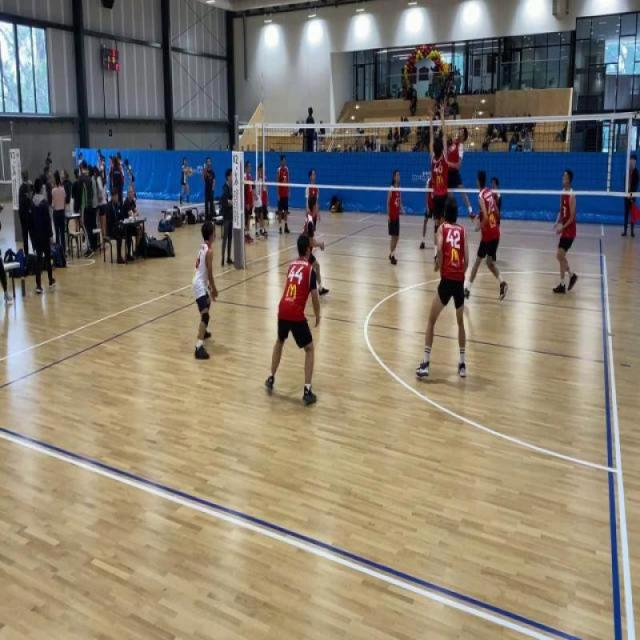volleyball: (45, 257, 54, 272), (442, 61, 450, 75), (163, 231, 170, 238), (147, 233, 154, 240), (188, 167, 192, 176), (332, 205, 335, 212)
